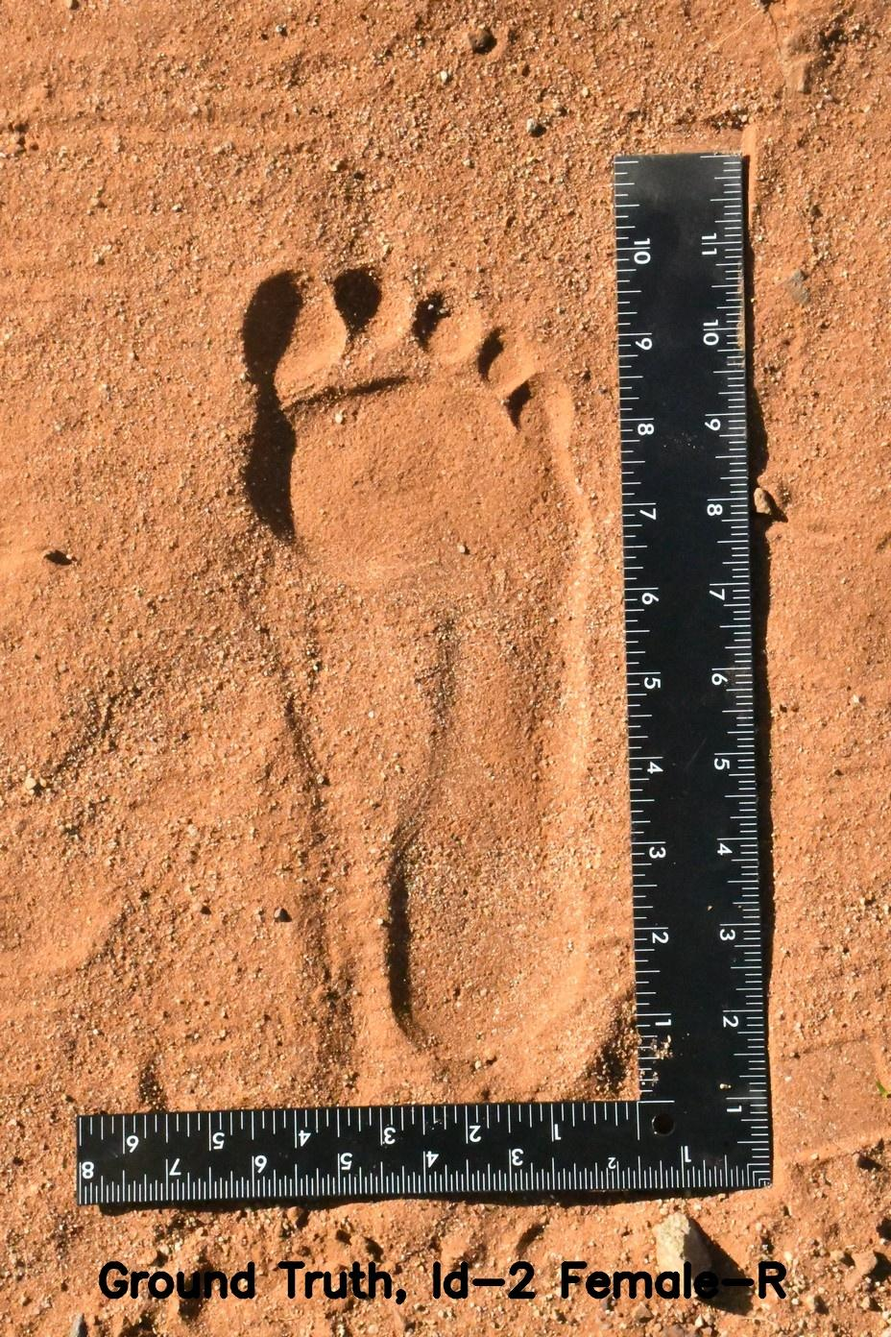human_footprint: (218, 231, 625, 1088)
